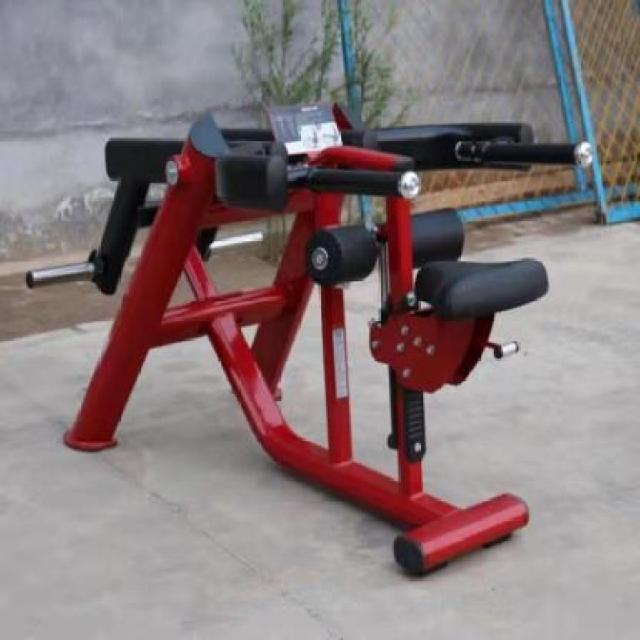seated dip machine: (27, 103, 596, 582)
